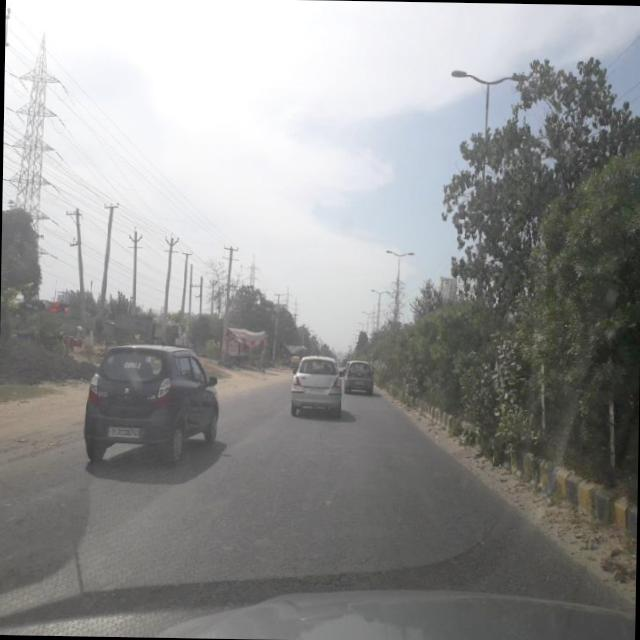crack: (0, 446, 603, 595)
